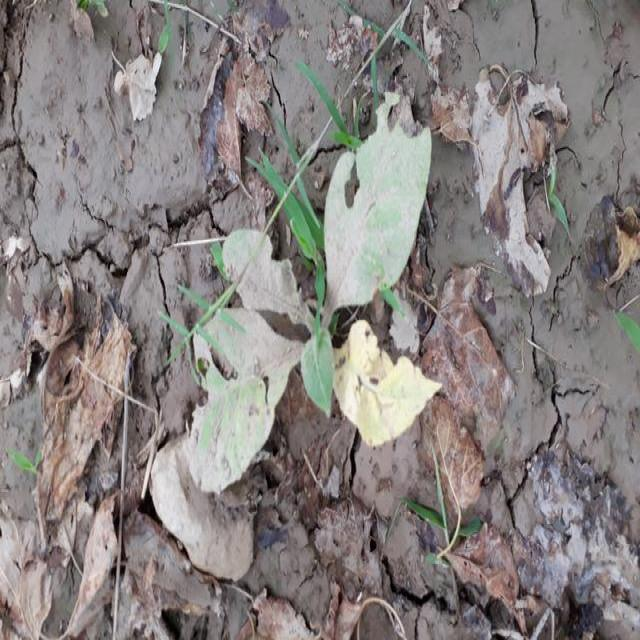crop: (174, 122, 455, 470)
